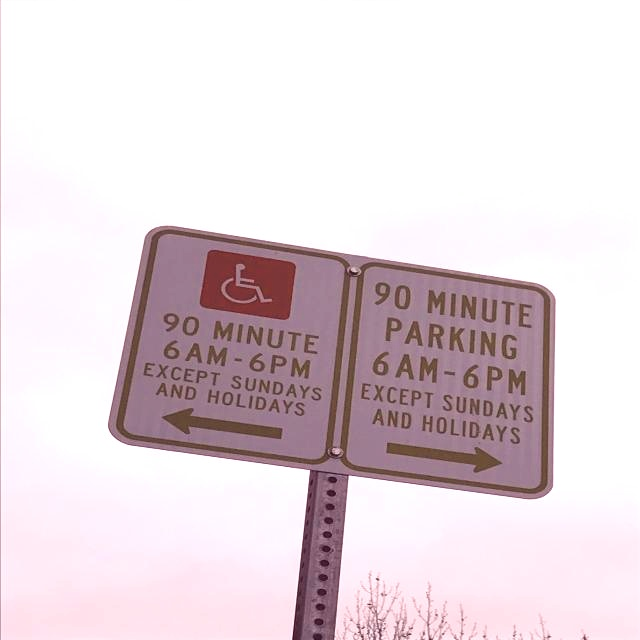ISA: (206, 251, 290, 314)
